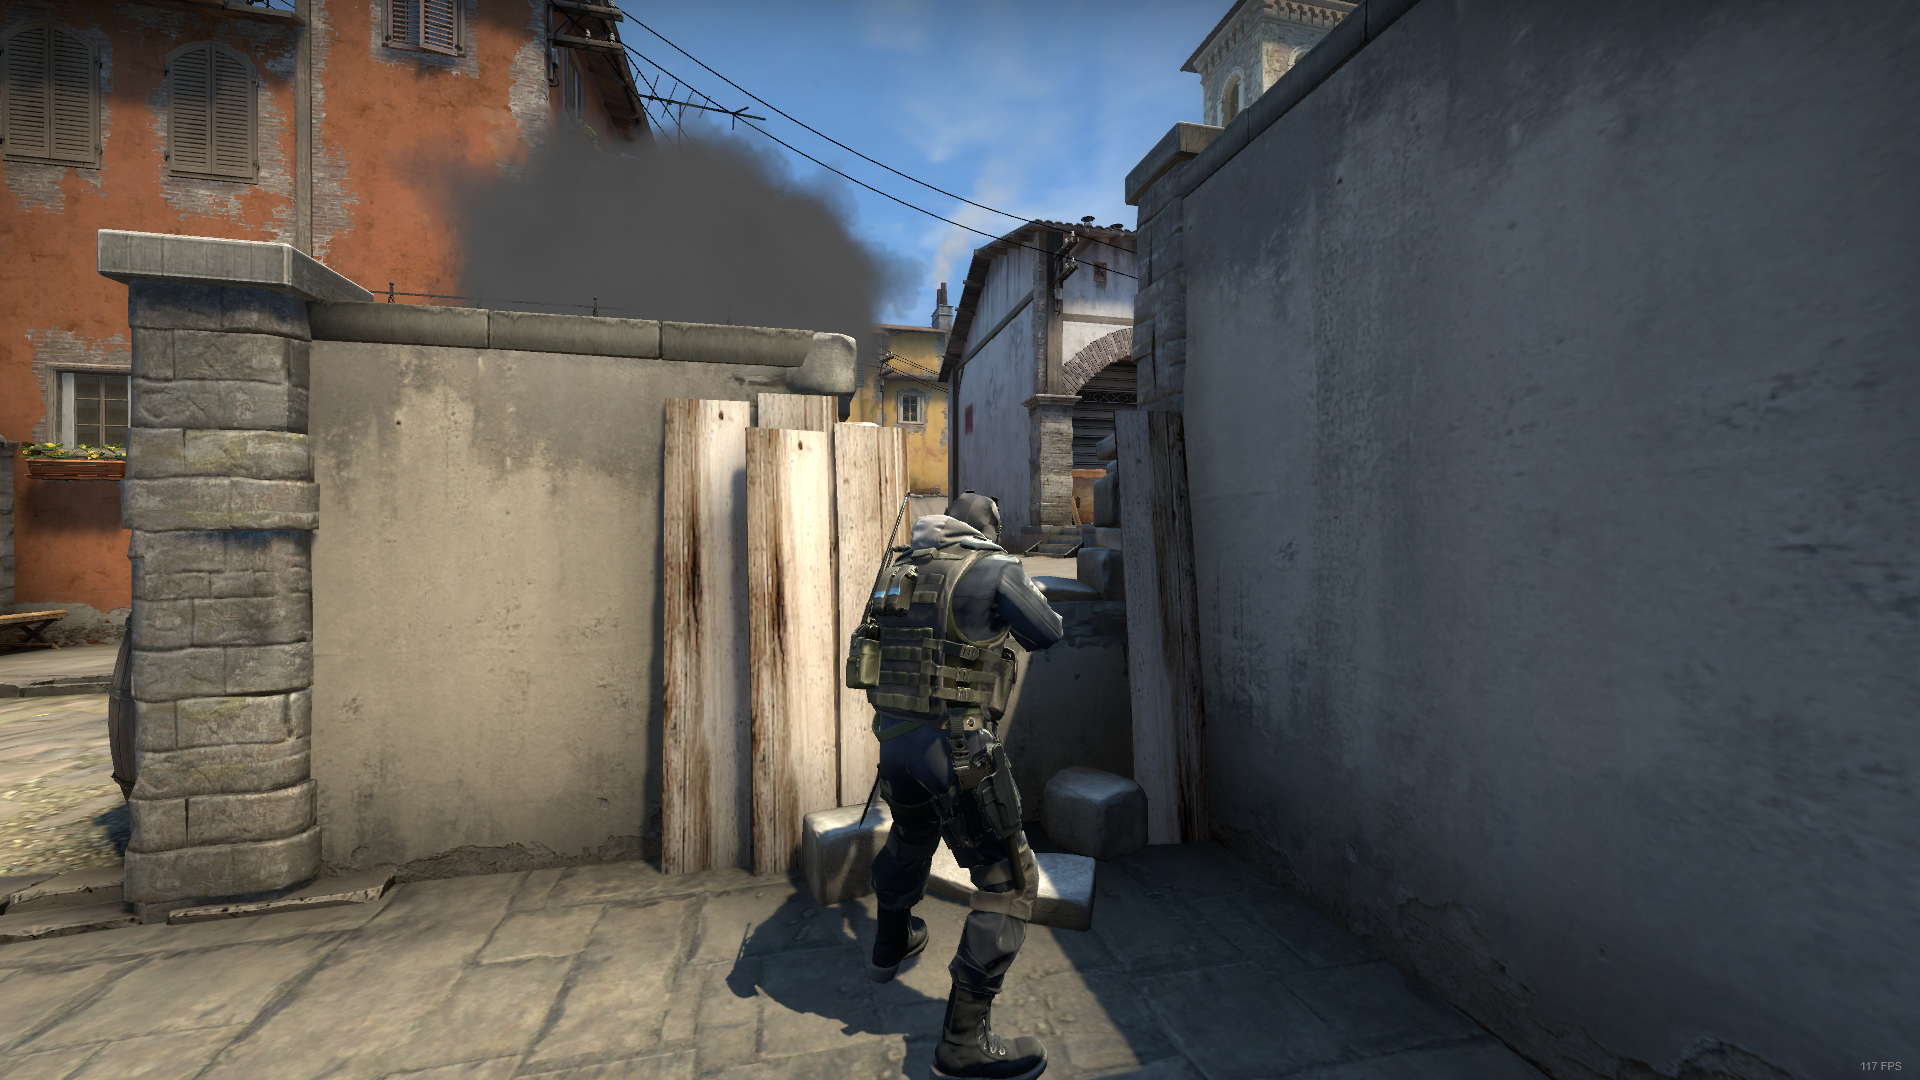ct: (851, 489, 1081, 1076)
